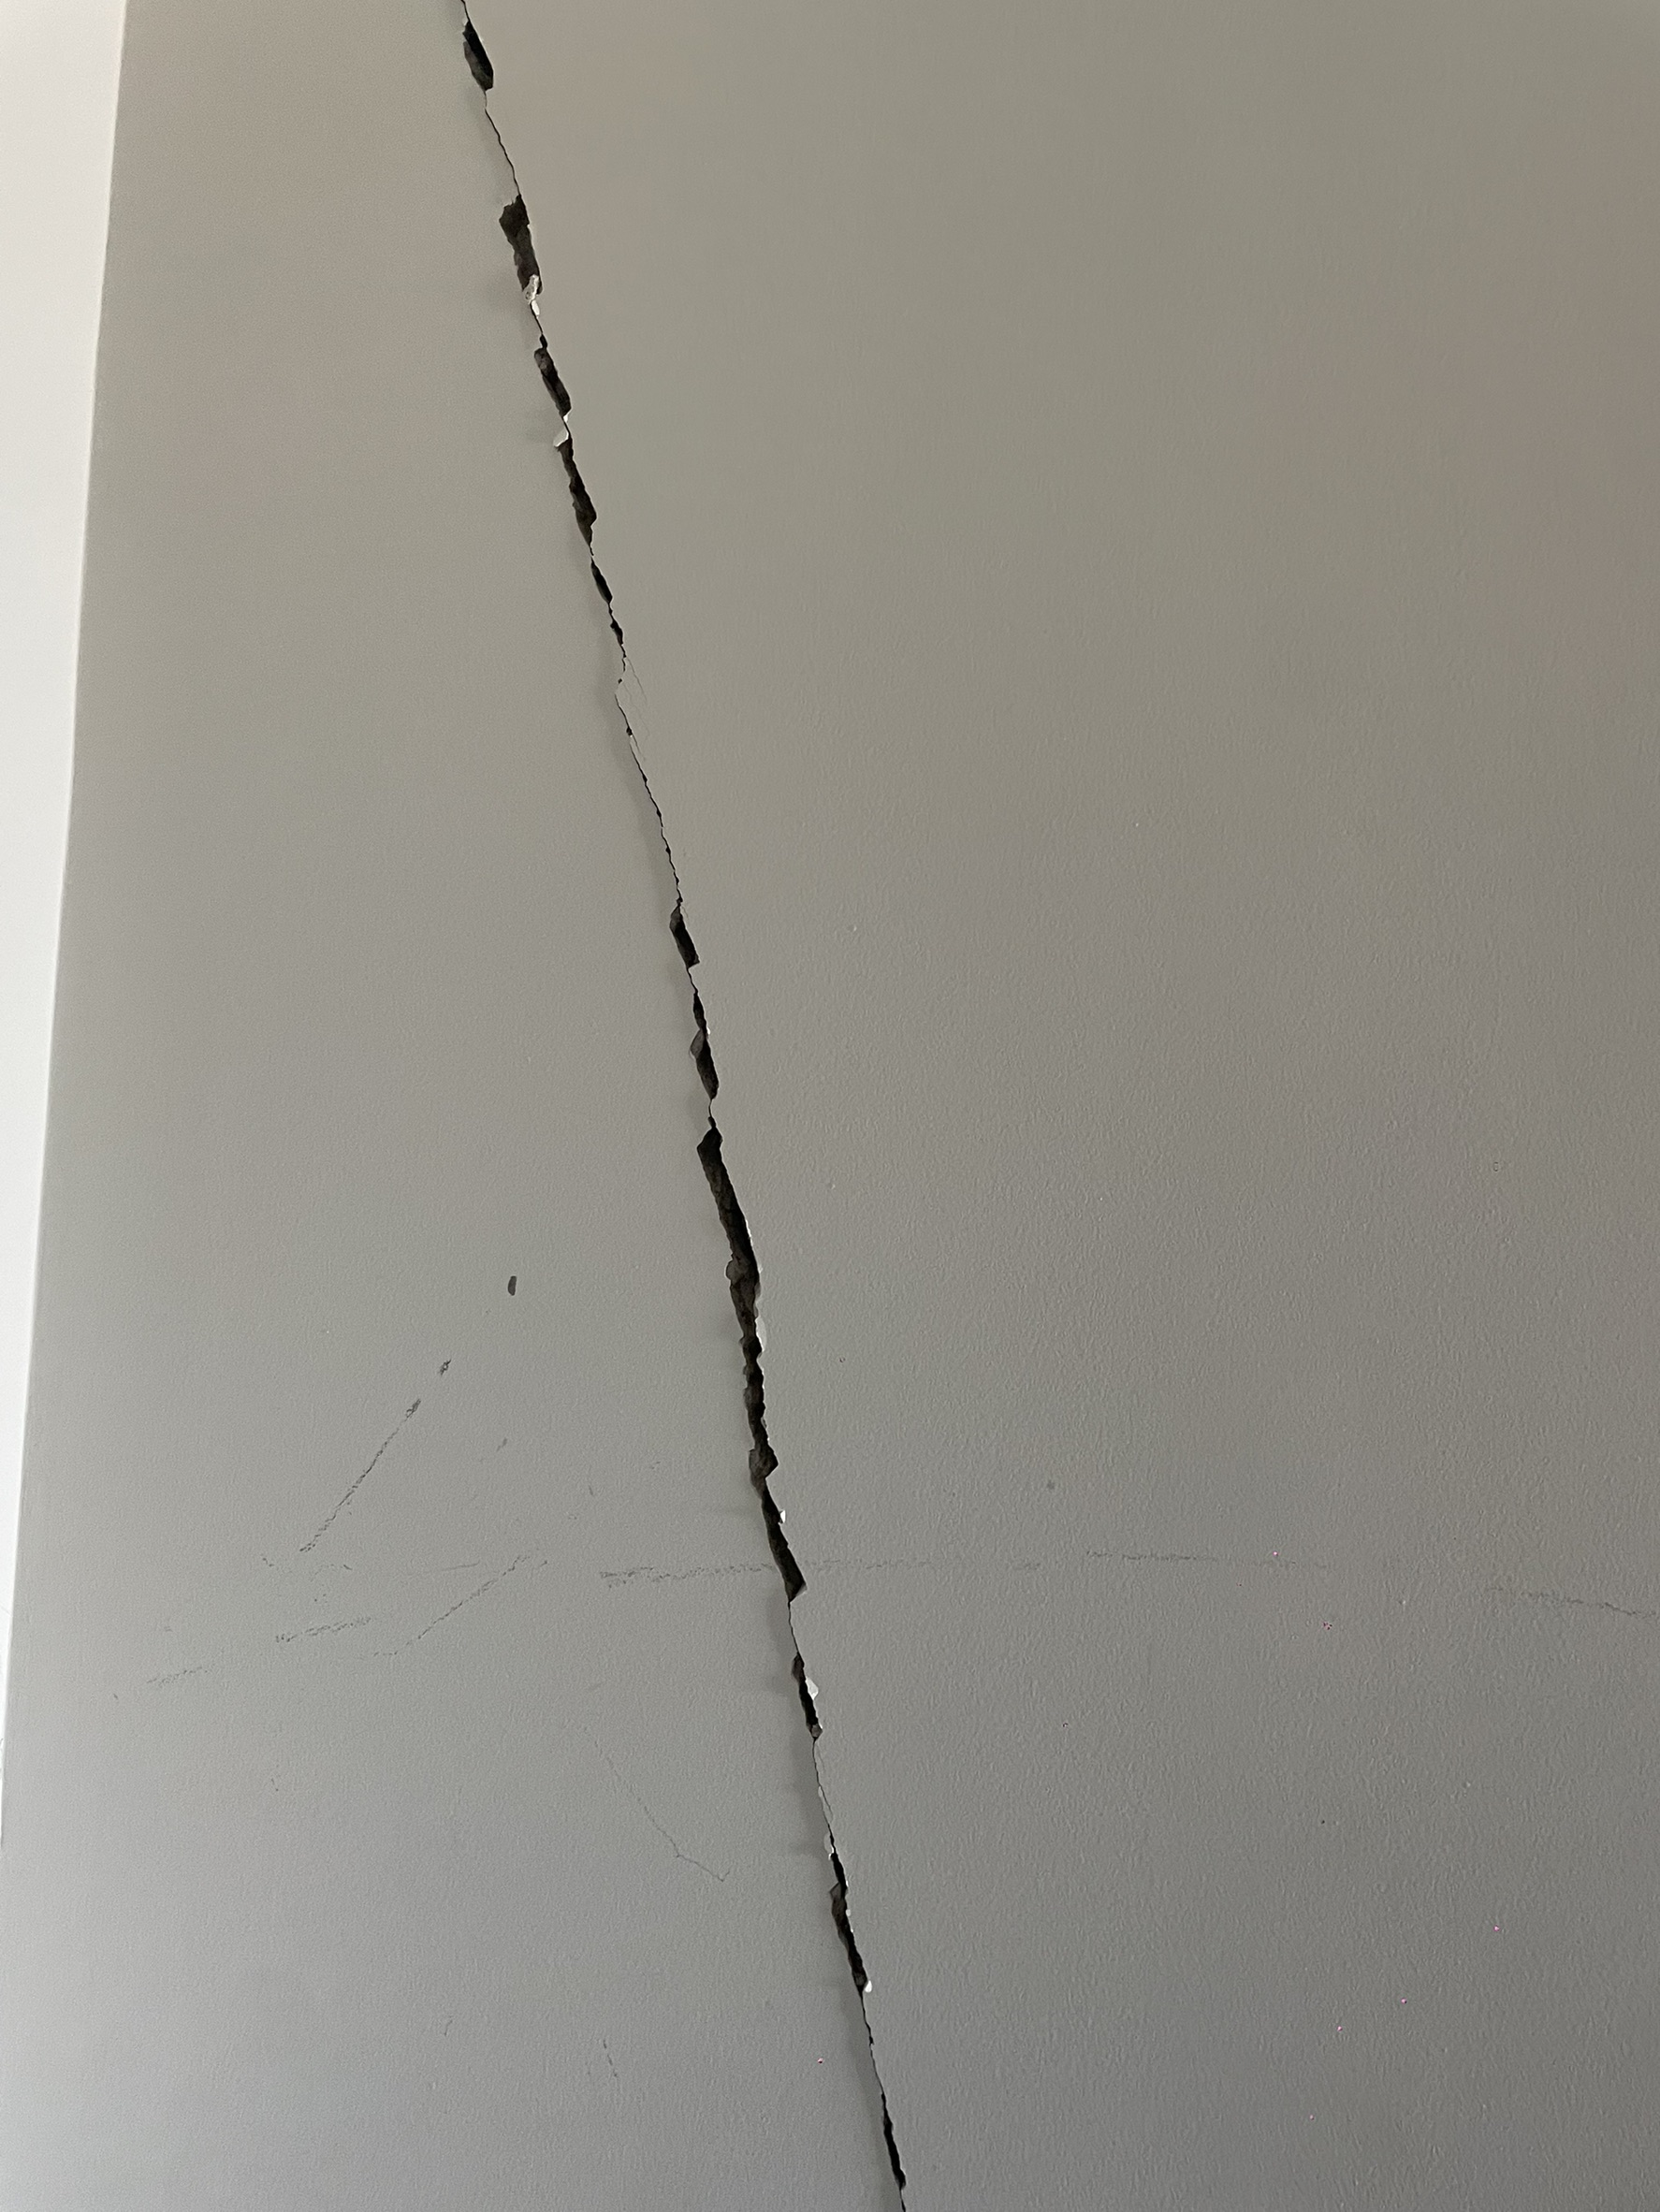Medium: (415, 103, 996, 2168)
